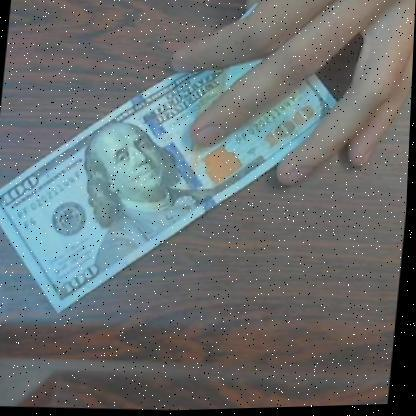one_hundred-front: (0, 61, 343, 330)
